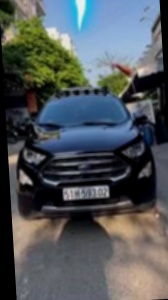Bien-so: (53, 184, 104, 197)
